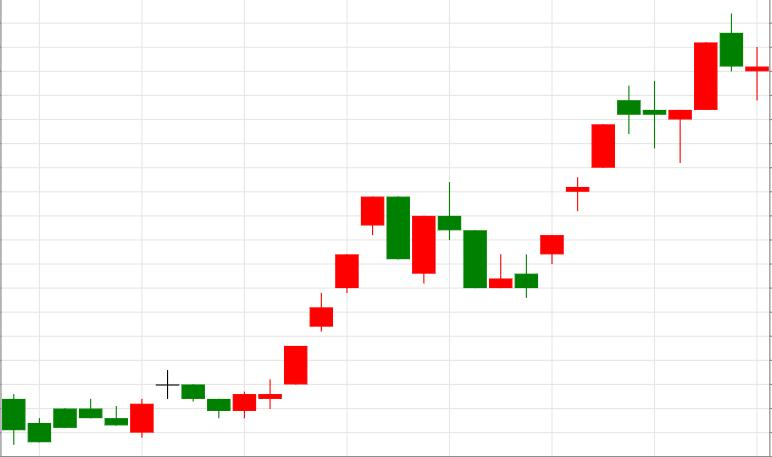bearish_engulfing_fall: (234, 197, 410, 418)
